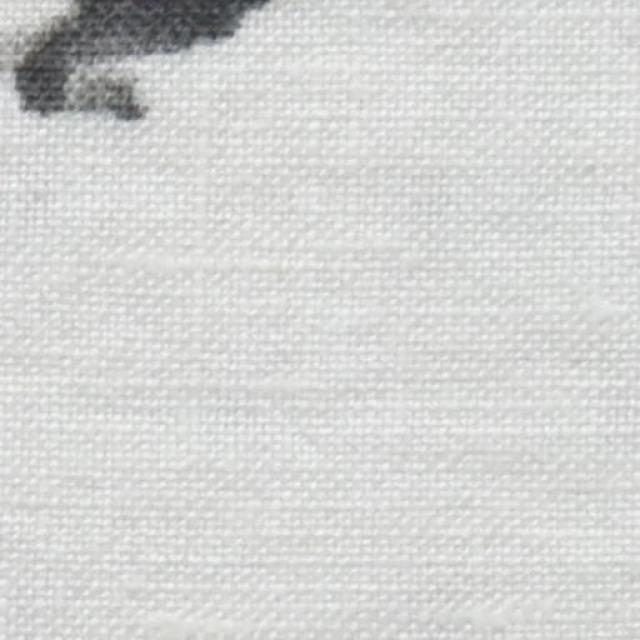Stain: (14, 0, 268, 119)
